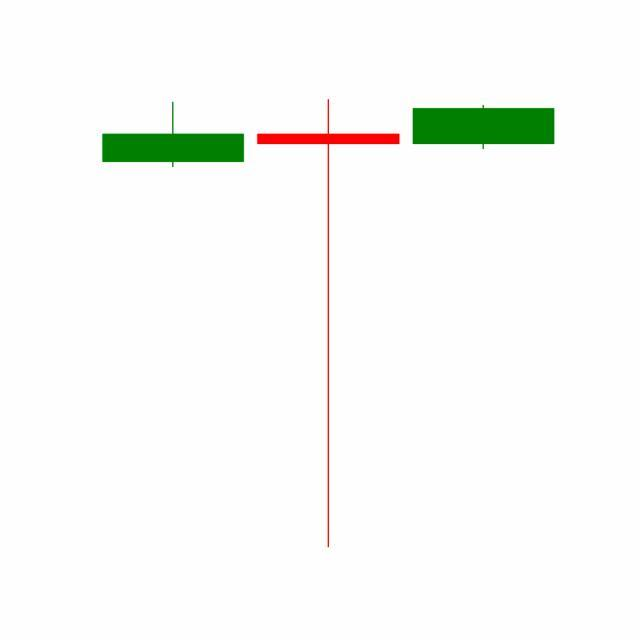Marubozu: (406, 104, 562, 151)
